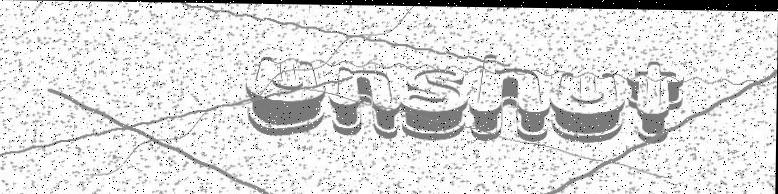h: (469, 48, 552, 142)
n: (332, 60, 403, 134)
s: (397, 62, 469, 141)
t: (627, 57, 686, 141)
u: (246, 48, 327, 131), (550, 64, 628, 138)
